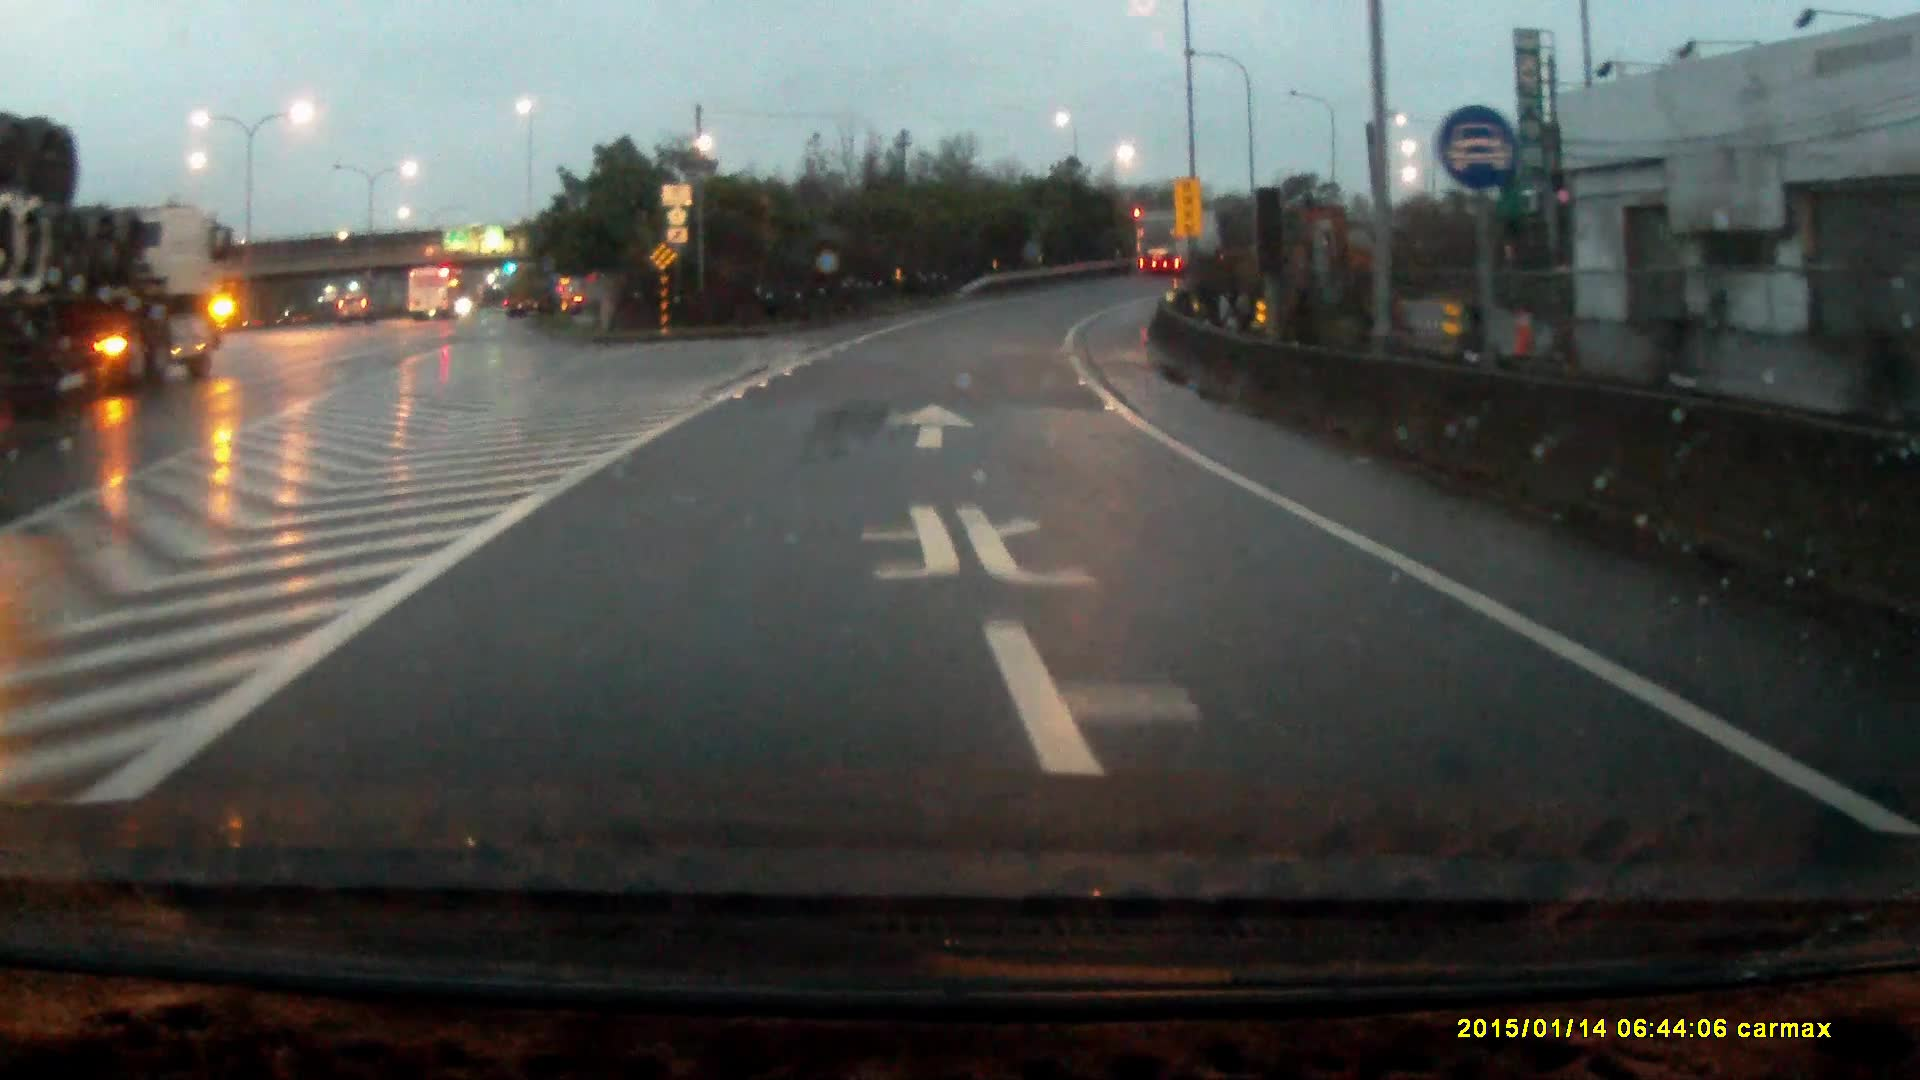vehicle: (1, 117, 231, 397), (1134, 211, 1228, 280), (407, 266, 465, 320), (338, 293, 373, 324)
